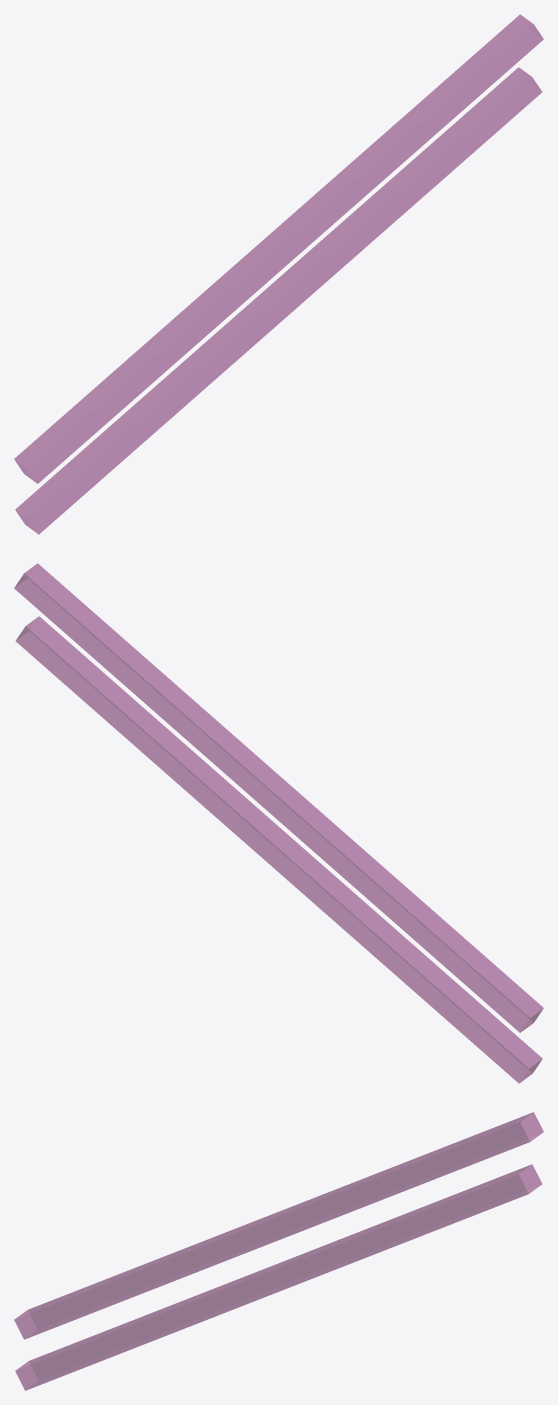
Rendered from SM_Bld_Railing_Rail_Stairs_01_Collision.fbx.
3 views of the same model, one above another, from view 1: azimuth 30°, elevation 25°; view 2: azimuth 150°, elevation 25°; view 3: azimuth 330°, elevation 25° (orthographic).
Parts seen in each view (by area): view 1: SM_Bld_Railing_Rail_Stairs_01_Collision; view 2: SM_Bld_Railing_Rail_Stairs_01_Collision; view 3: SM_Bld_Railing_Rail_Stairs_01_Collision.
Boxes of the visible parts, x1,y1,x2,y2 form: SM_Bld_Railing_Rail_Stairs_01_Collision: (14, 14, 543, 534); SM_Bld_Railing_Rail_Stairs_01_Collision: (14, 563, 543, 1083); SM_Bld_Railing_Rail_Stairs_01_Collision: (14, 1112, 543, 1390).
Bounding box in the file's own units: 260 × 188 × 11.95.
